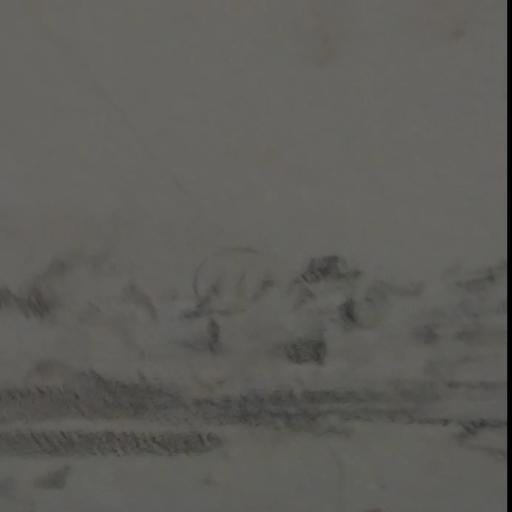stain: (8, 232, 512, 503)
